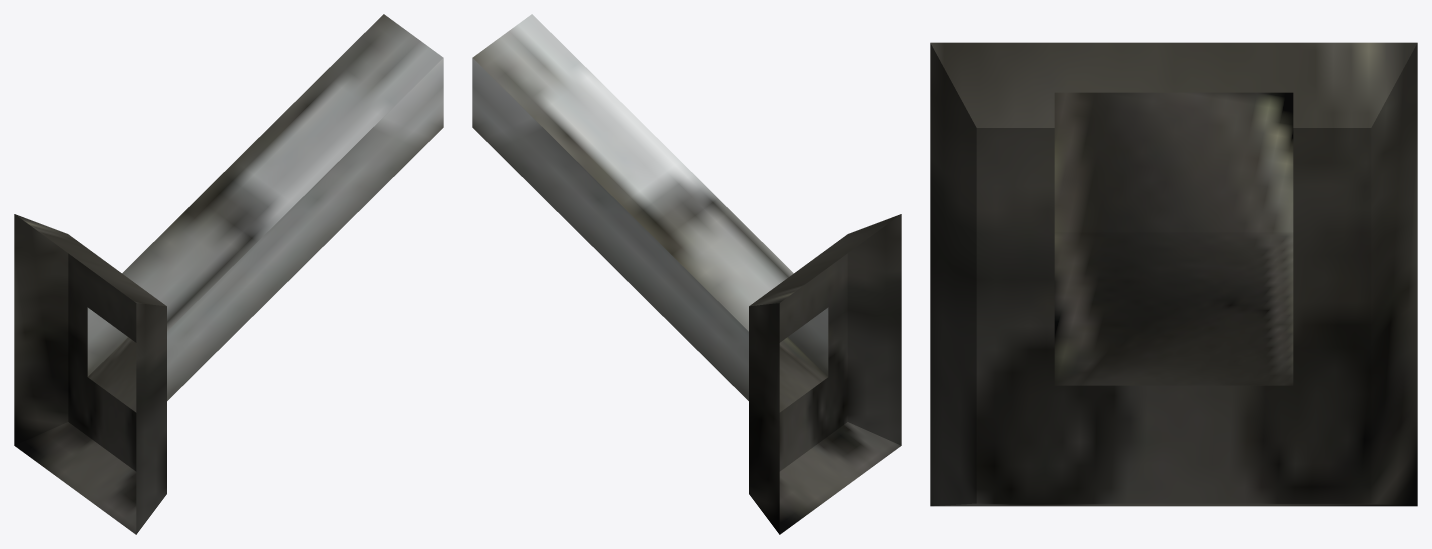
File: SM_SYD_SecurityCamera_Base01.fbx
3 views of the same model, side by side, from view 1: azimuth 30°, elevation 25°; view 2: azimuth 150°, elevation 25°; view 3: azimuth 270°, elevation 25° (orthographic). The views are drawn at different scales.
Parts seen in each view (by area): view 1: SM_SYD_SecurityCamera_Base01; view 2: SM_SYD_SecurityCamera_Base01; view 3: SM_SYD_SecurityCamera_Base01.
Part boxes in pixels (box(x1,y1,x2,y2)): SM_SYD_SecurityCamera_Base01: box(14, 14, 443, 534); SM_SYD_SecurityCamera_Base01: box(472, 14, 901, 534); SM_SYD_SecurityCamera_Base01: box(930, 42, 1417, 506).
Bounding box in the file's own units: 32.06 × 33.68 × 20.
